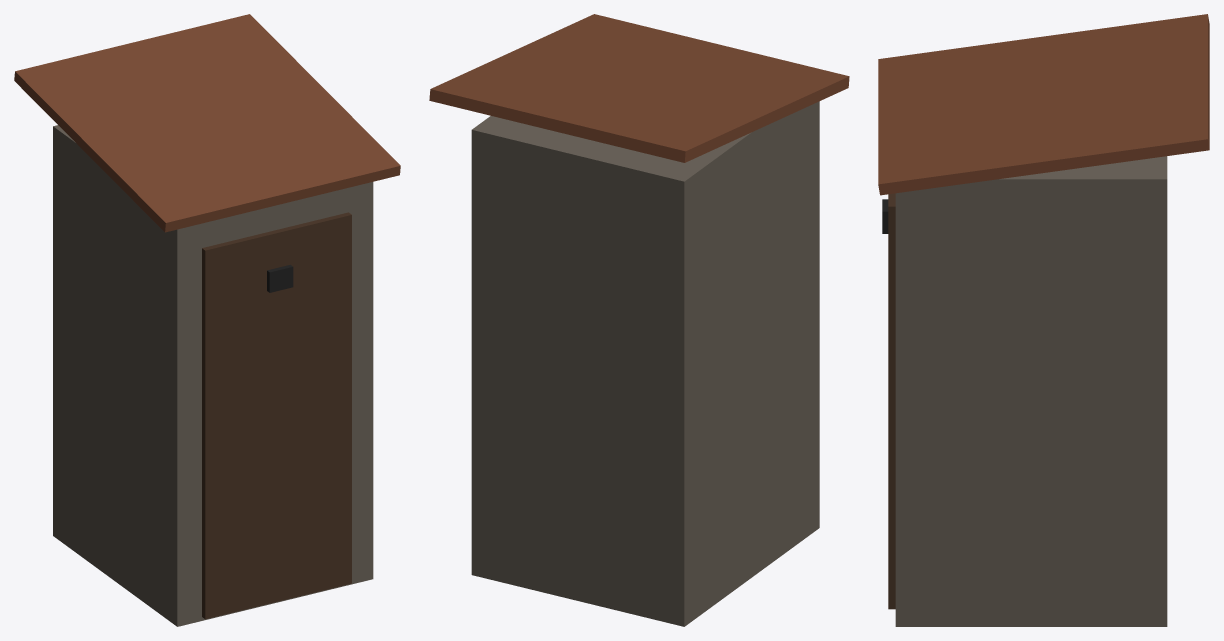
File: outhouse.glb
3 views of the same model, side by side, from view 1: azimuth 30°, elevation 25°; view 2: azimuth 150°, elevation 25°; view 3: azimuth 270°, elevation 25° (orthographic). The views are drawn at different scales.
Visible parts, largest first — view 1: Outhouse; view 2: Outhouse; view 3: Outhouse.
Boxes of the visible parts, box(x1,y1,x2,y2) form: Outhouse: box(14, 14, 400, 626); Outhouse: box(429, 14, 849, 626); Outhouse: box(878, 14, 1209, 626).
Bounding box in the file's own units: 1.2 × 2.23 × 1.34.
